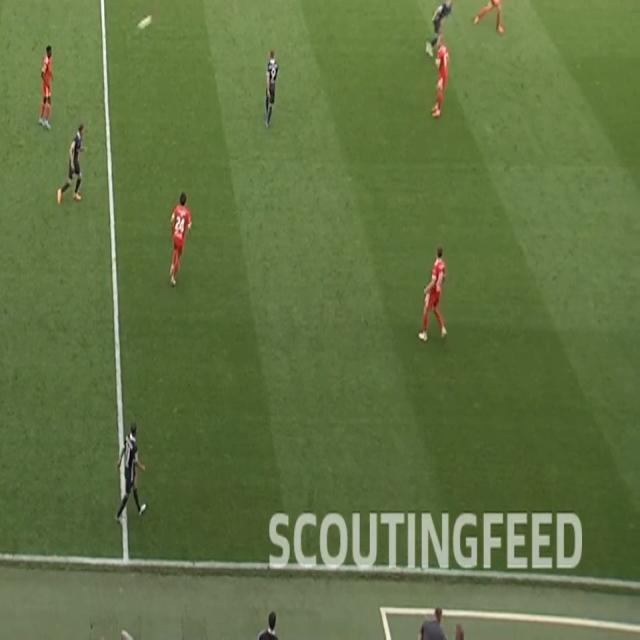ball: (136, 13, 153, 32)
